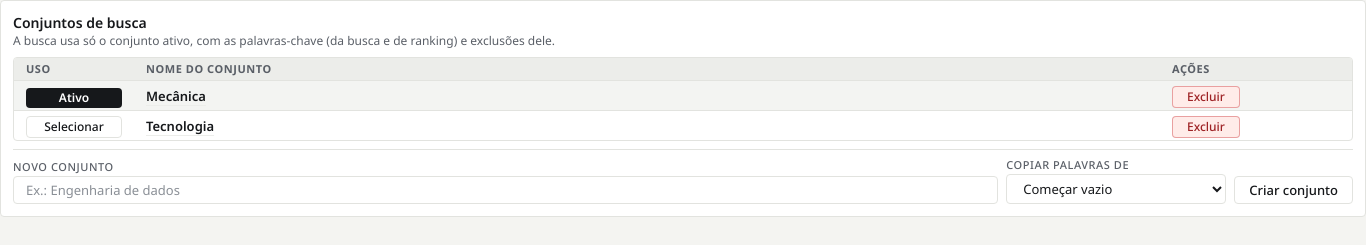
Scenario: ConjuntosPanel › renomeia o conjunto ativo: abre com o nome atual, envia o novo e volta ao seletor
Click the button with aria-label "Editar Mecânica" at (176, 96), box [146,86,206,104]
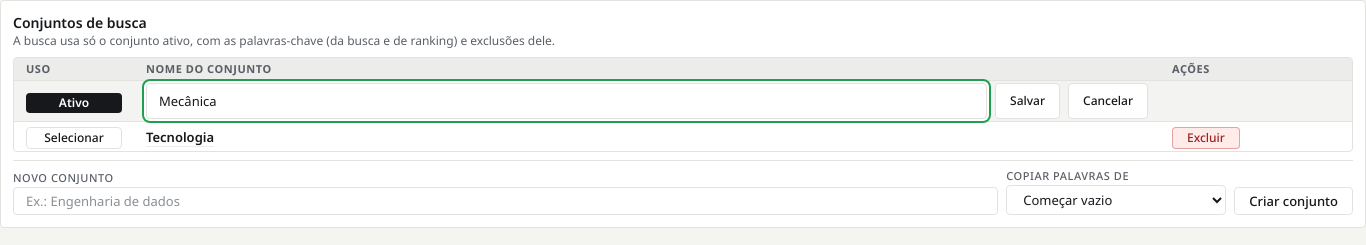
Now the field named "Nome do conjunto Mecânica" holds "Mecânica"
Replace the text in the field named "Nome do conjunto Mecânica" with "Engenharia mecânica" at (567, 101), box [146,83,987,119]
Then press Enter
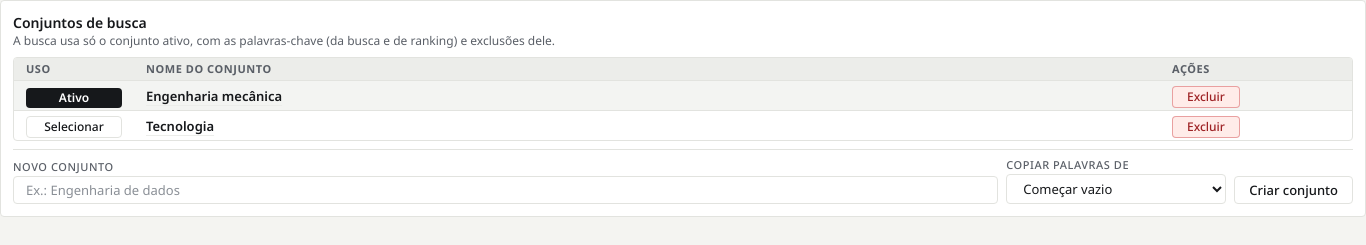
Expected: the field labelled "Nome do conjunto Mecânica" is not shown
Now the button with aria-label "Editar Engenharia mecânica" is shown, box [146,86,282,104]
